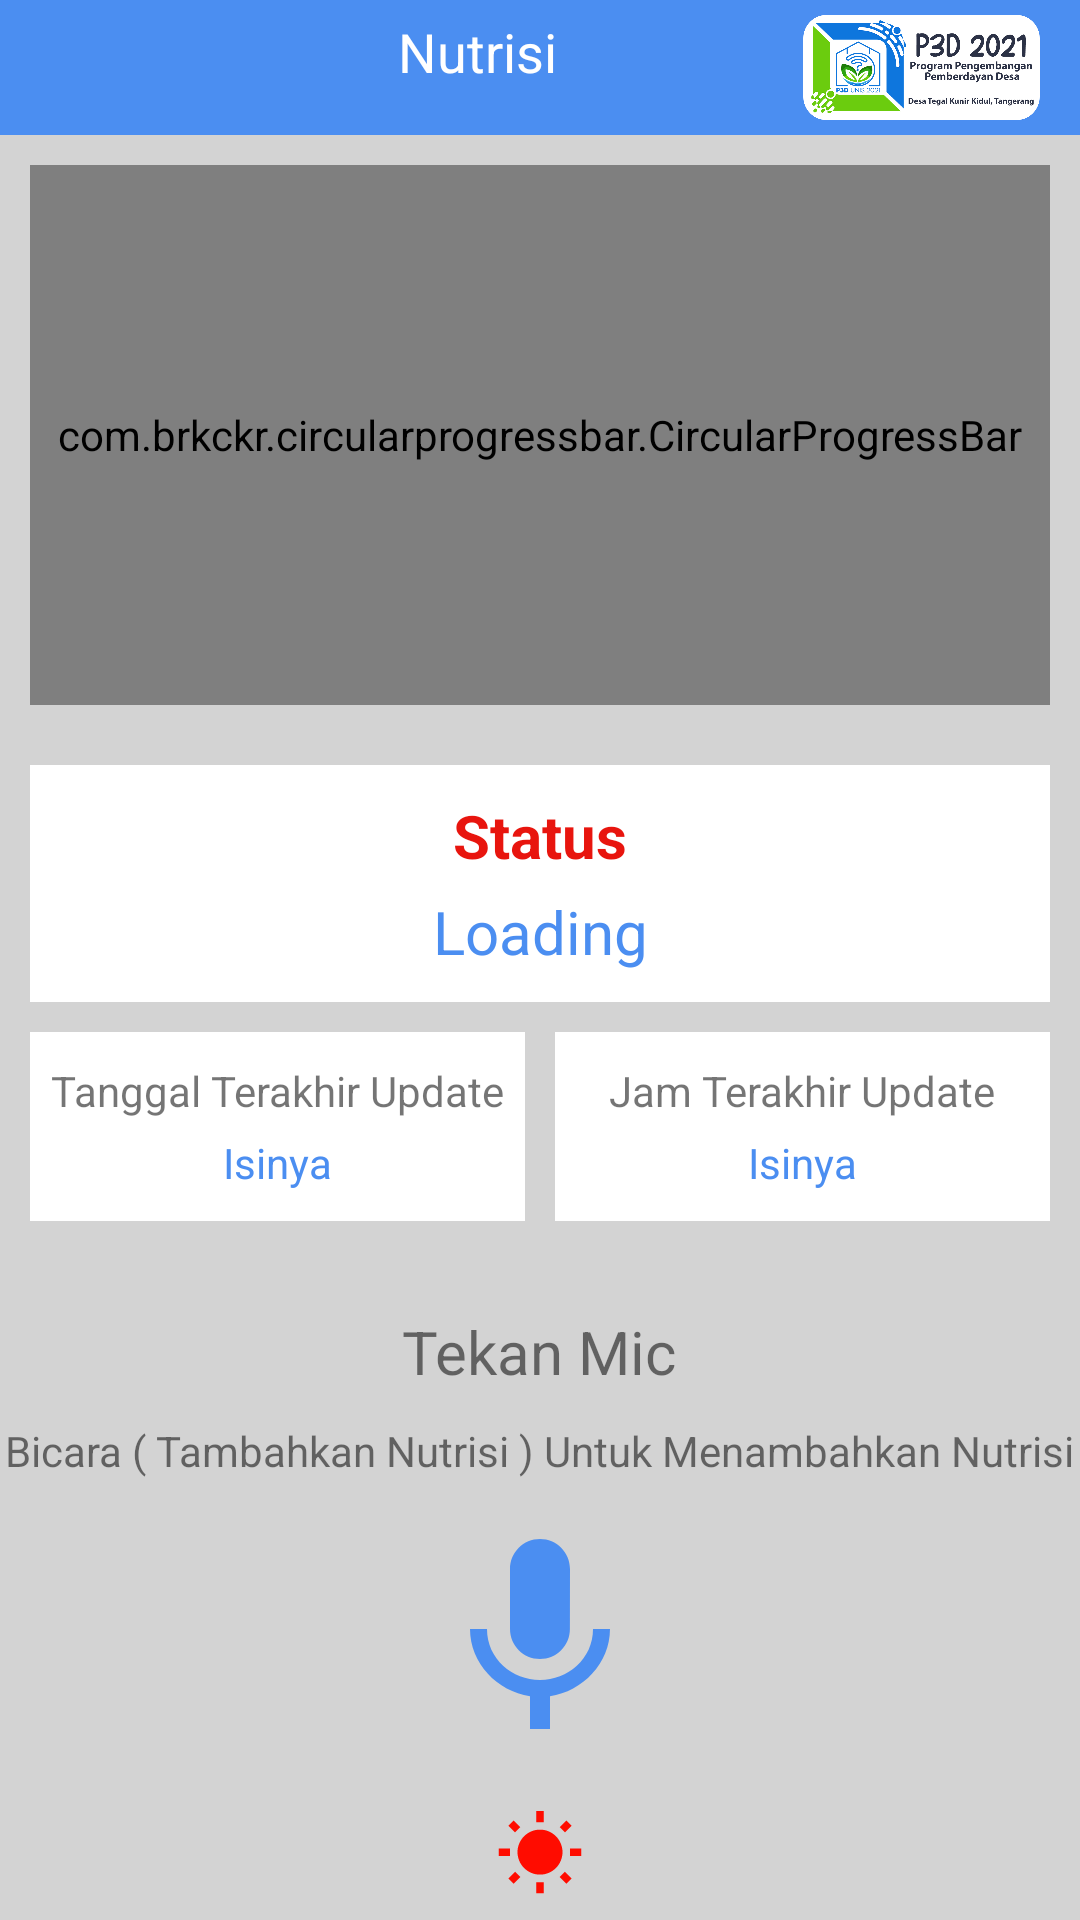

Point at icon controls on the screen. Image size 1080w x 1920h, points as (x,y).
keyboard voice: (540,1634)
sunny matimesin: (540,1852)
